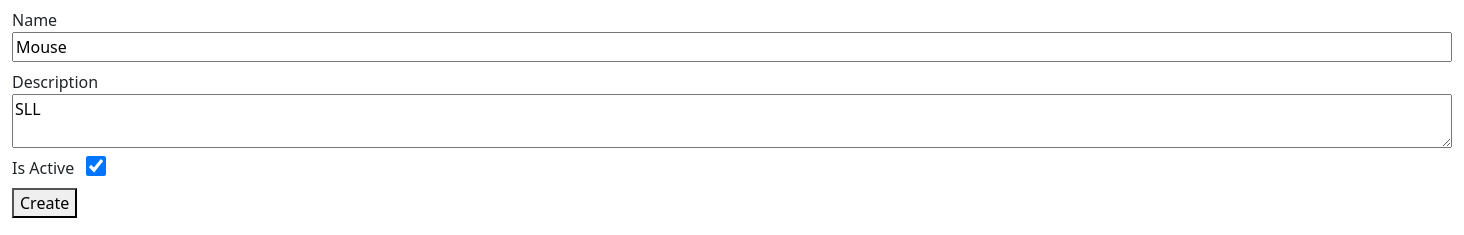
Test: on loading › should disable all fields
Click the button "Create" at (45, 203), box [12, 188, 77, 218]
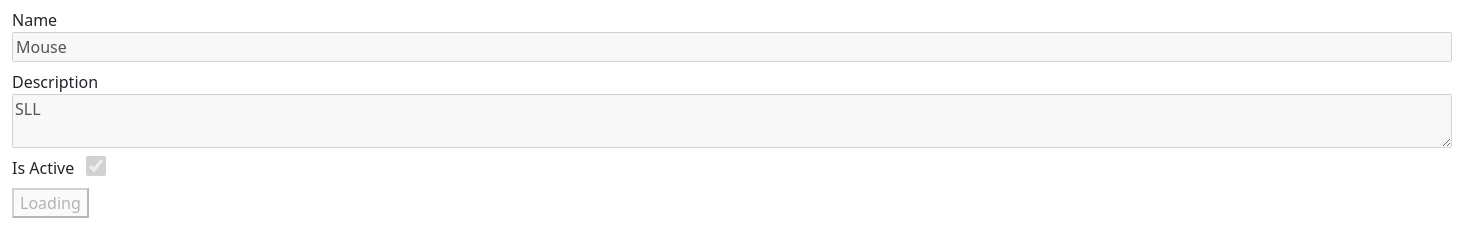
Check: the field titled "name" is disabled, box [12, 32, 1452, 62]
Check: the text box titled "description" is disabled, box [12, 94, 1452, 148]
Check: the checkbox titled "isActive" is disabled, box [86, 156, 106, 176]
